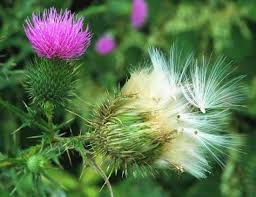bull thistle: (22, 6, 92, 108)
